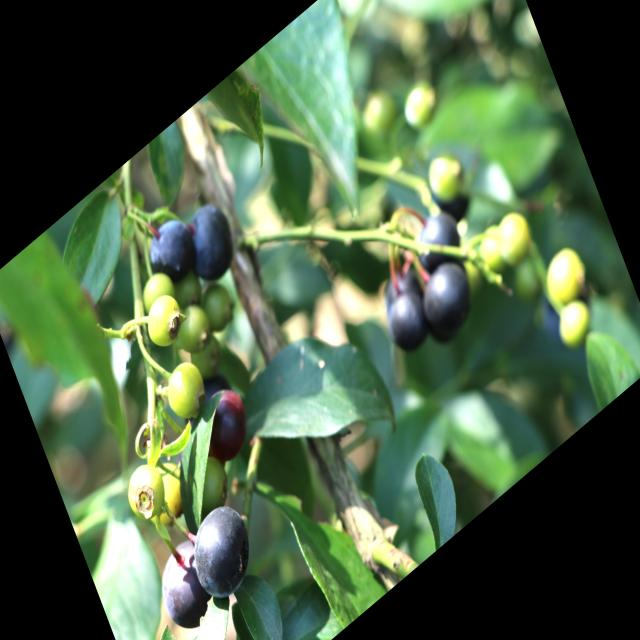blueberry: (184, 493, 262, 611), (150, 533, 220, 640), (176, 190, 244, 294), (192, 379, 257, 476), (140, 208, 202, 296), (418, 252, 477, 341), (379, 282, 434, 362), (411, 200, 464, 277)
blueberry-unripe: (119, 453, 173, 535), (161, 352, 212, 426), (544, 240, 591, 308), (140, 287, 186, 355), (425, 143, 469, 210), (554, 294, 599, 355), (174, 303, 210, 354)
